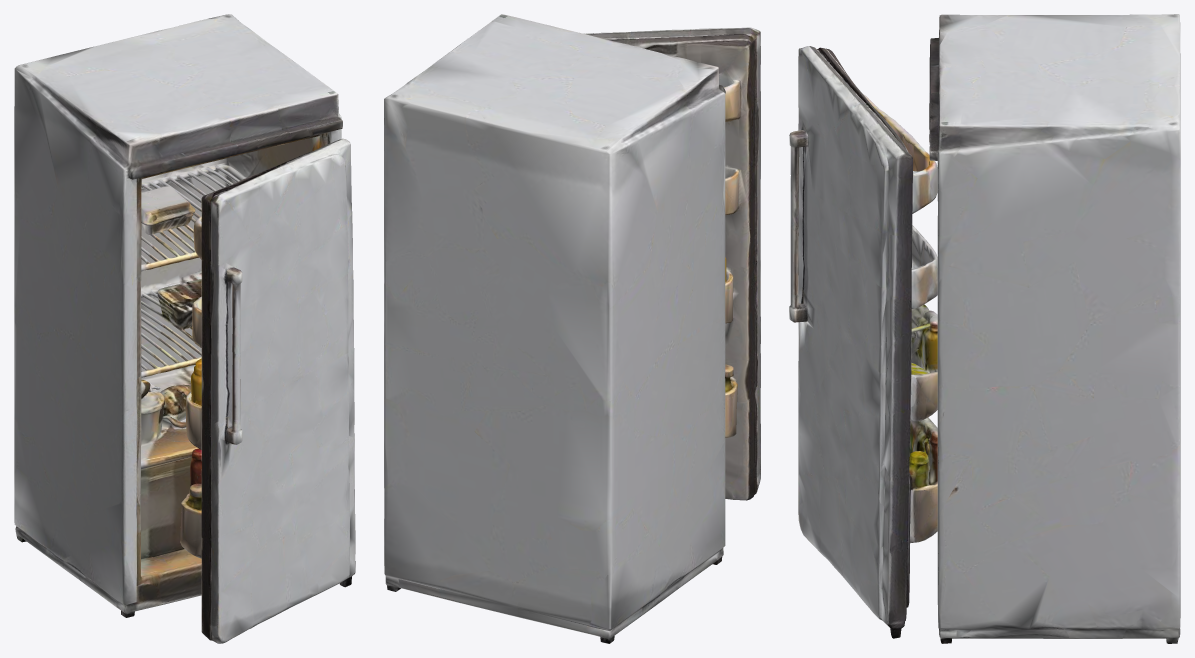
Rendered from refrigerator_open.glb.
3 views of the same model, side by side, from view 1: azimuth 30°, elevation 25°; view 2: azimuth 150°, elevation 25°; view 3: azimuth 270°, elevation 25° (orthographic). The views are drawn at different scales.
Parts seen in each view (by area): view 1: mesh_node; view 2: mesh_node; view 3: mesh_node.
Part boxes in pixels (x1,y1,x2,y2): mesh_node: (14,14,355,643); mesh_node: (384,14,760,643); mesh_node: (789,14,1180,643).
Size of the model in its own units: 0.9193 by 1.9 by 1.3.
1 material, 1 textured.
